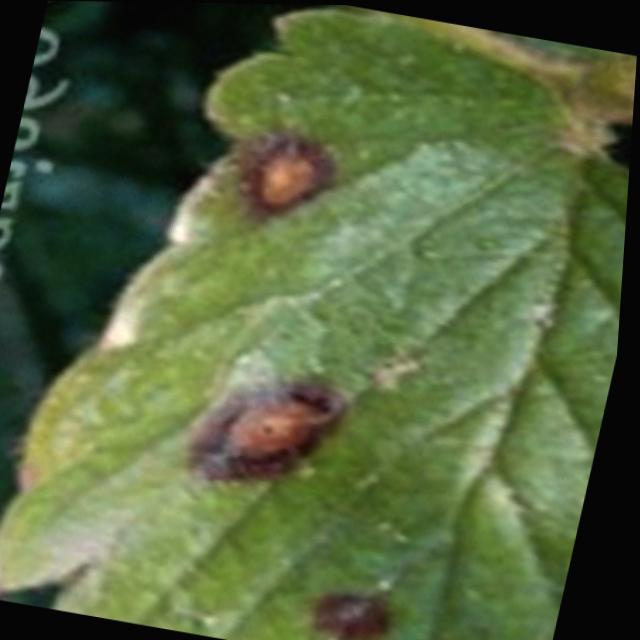Leaf Spot: (0, 6, 632, 640)
